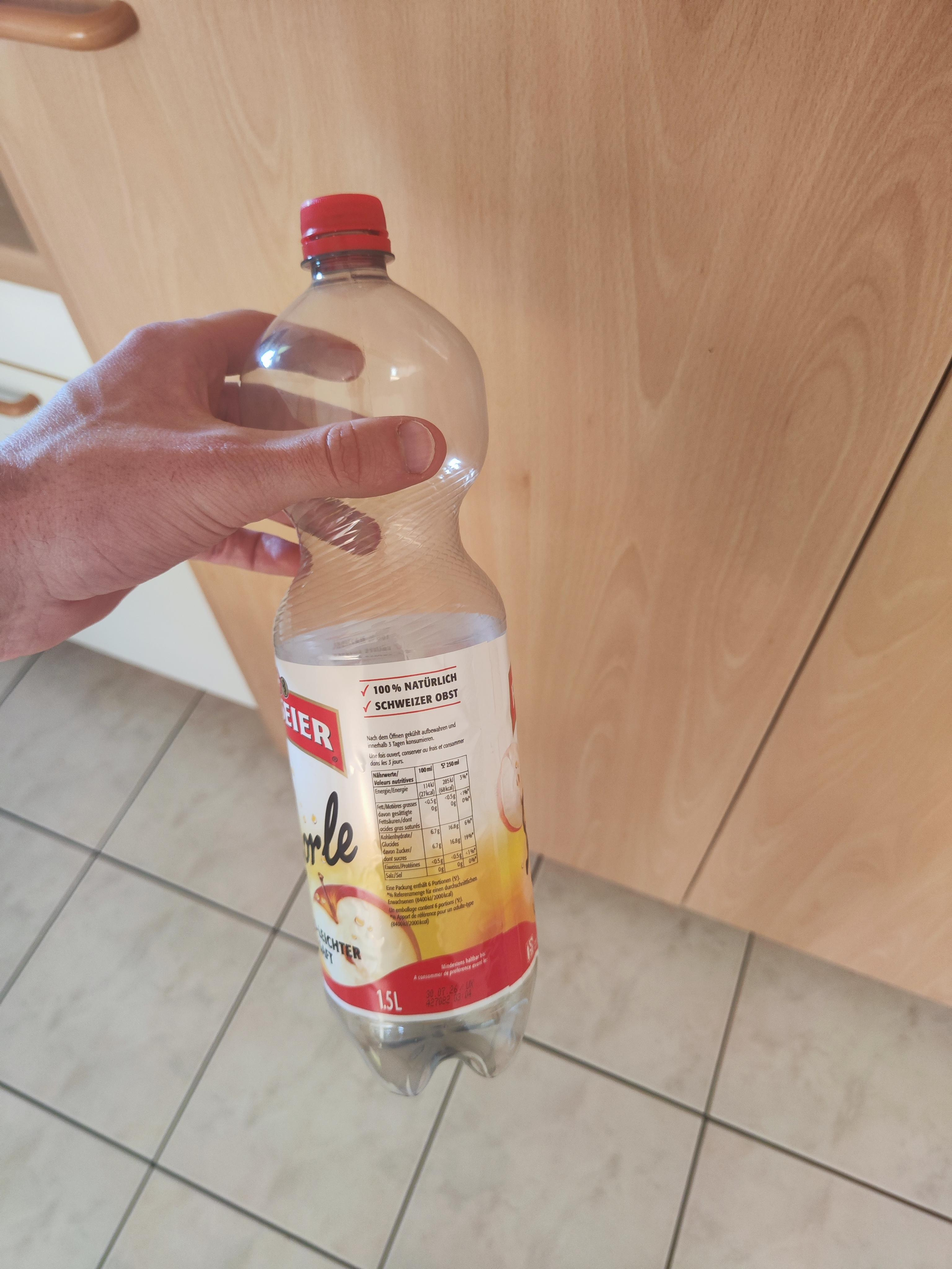Plastic: (240, 192, 564, 1106)
